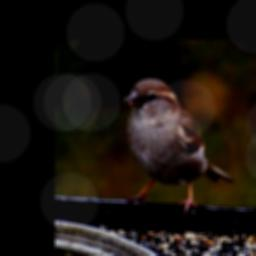Sparrow: (121, 76, 234, 218)
